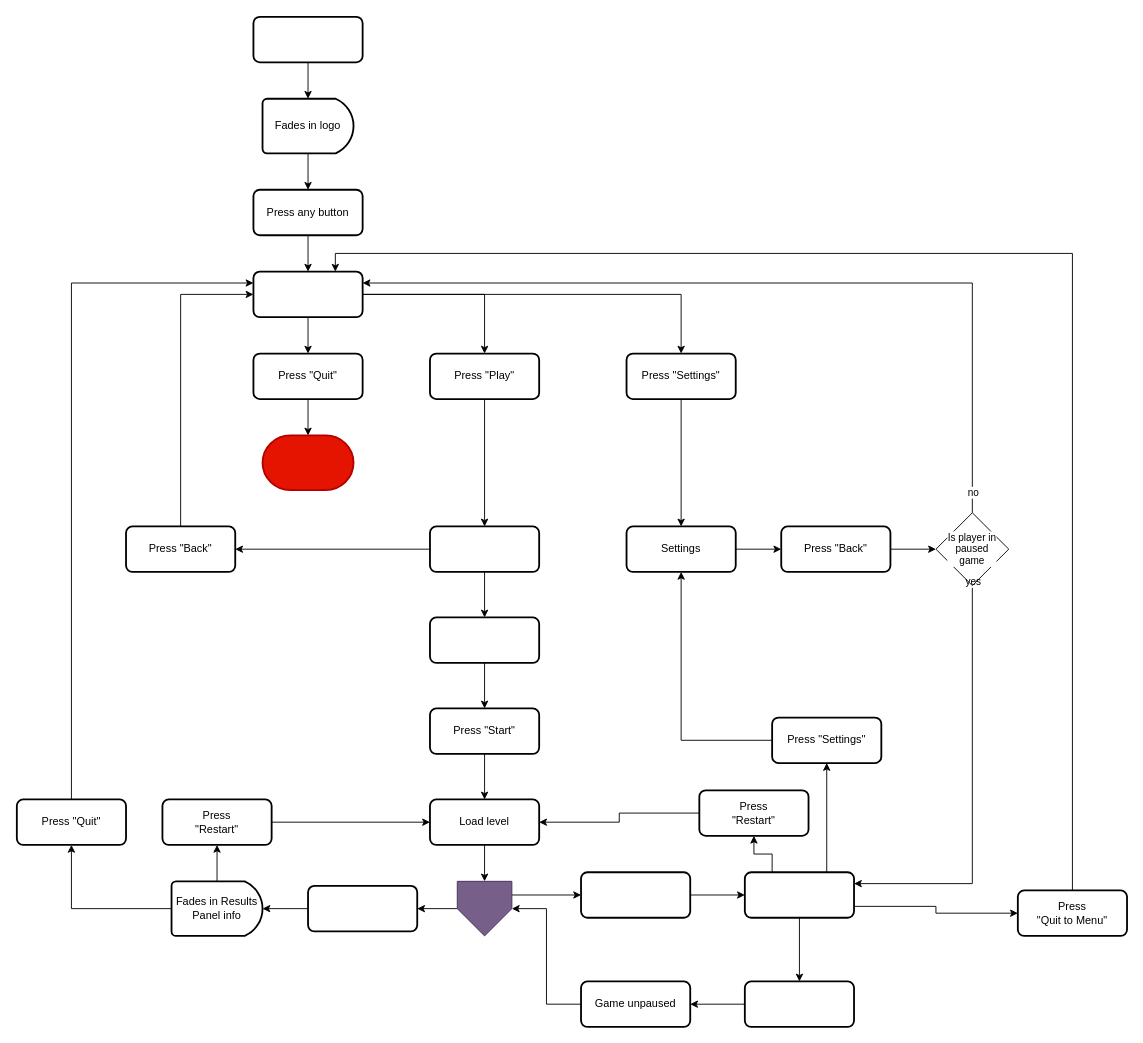
Some shapes in this 1143 by 1043 pixel diagram are drawn without their labels. The centre of each missing label's shape, as x and y in pixels:
Game boots up Title Screen: the point at 307,39
Game closes: the point at 307,462
Game paused: the point at 635,894
Level finished: the point at 362,908
Main Menu: the point at 307,294
Pause Menu: the point at 798,894
Play Menu: the point at 484,548
Press "Continue": the point at 798,1003
Select level from list: the point at 484,639
